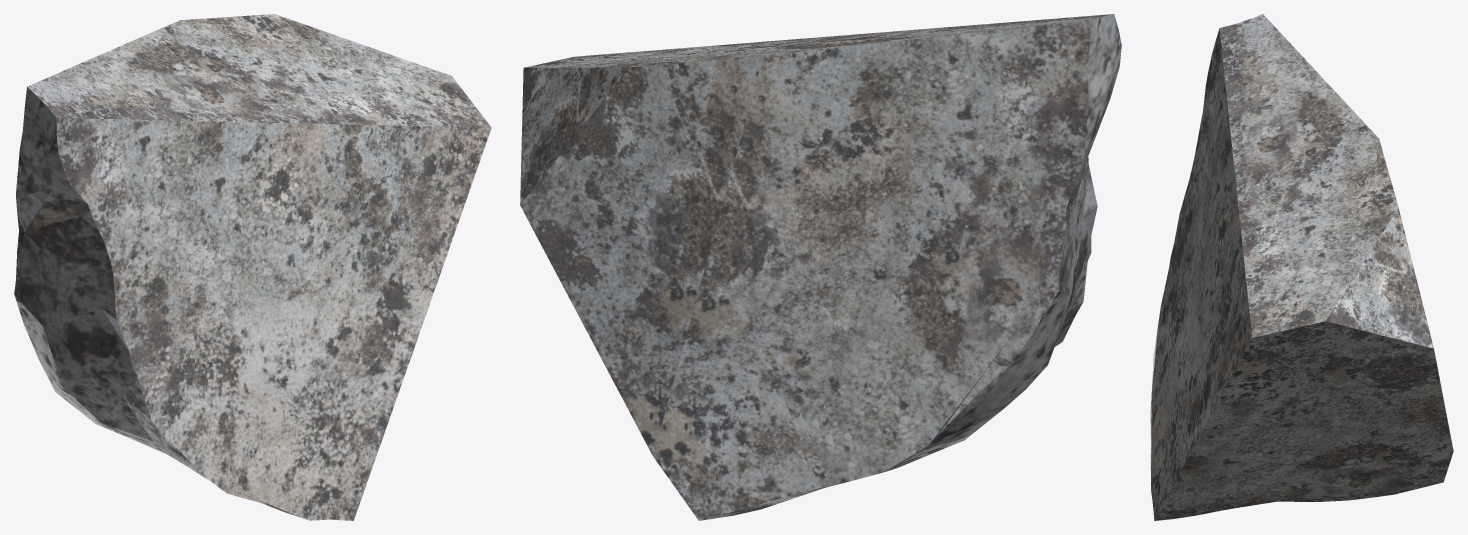
Rendered from Asteroid_Large_001_02_012.fbx.
3 views of the same model, side by side, from view 1: azimuth 30°, elevation 25°; view 2: azimuth 150°, elevation 25°; view 3: azimuth 270°, elevation 25° (orthographic). The views are drawn at different scales.
Parts seen in each view (by area): view 1: Asteroid_Large_001_02_012; view 2: Asteroid_Large_001_02_012; view 3: Asteroid_Large_001_02_012.
Boxes of the visible parts, left/top/right/bottom form: Asteroid_Large_001_02_012: left=14, top=14, right=491, bottom=520; Asteroid_Large_001_02_012: left=520, top=14, right=1121, bottom=520; Asteroid_Large_001_02_012: left=1150, top=14, right=1453, bottom=520.
Bounding box in the file's own units: 24.44 × 22.83 × 15.91.
